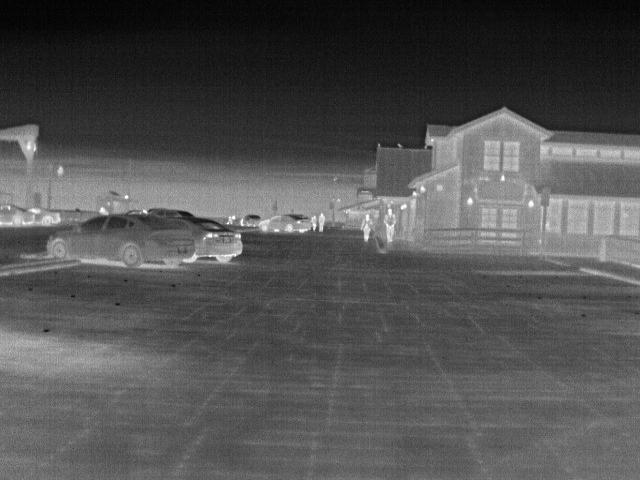car: (46, 211, 193, 266), (173, 216, 241, 264), (255, 213, 311, 235), (0, 203, 38, 229), (25, 206, 61, 224), (241, 214, 264, 230)
person: (383, 207, 398, 243), (361, 212, 375, 244), (315, 211, 329, 231)
